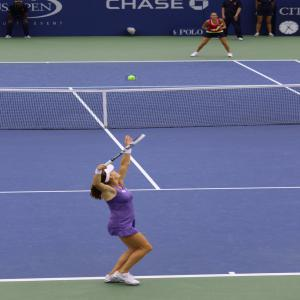TennisBall: (127, 76, 139, 83)
